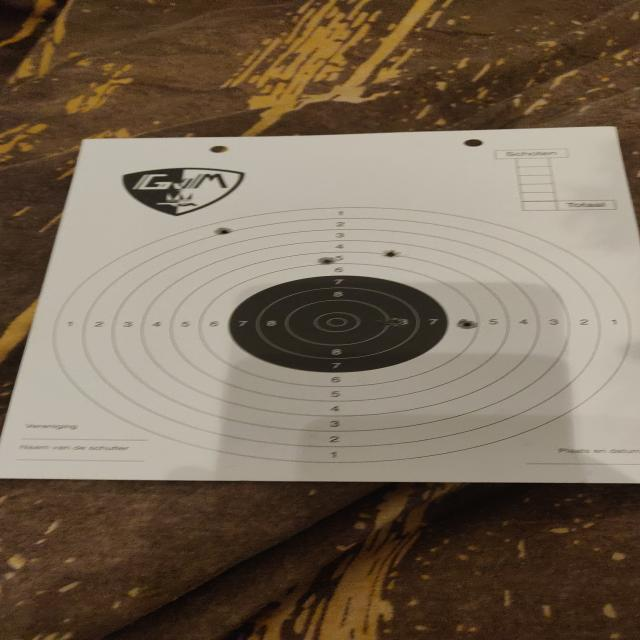2: (210, 227, 232, 236)
5: (380, 248, 403, 259), (315, 256, 339, 266)
6: (454, 318, 481, 330)
9: (382, 315, 412, 328)
Target: (57, 206, 634, 464)
black_contour: (229, 275, 449, 373)
